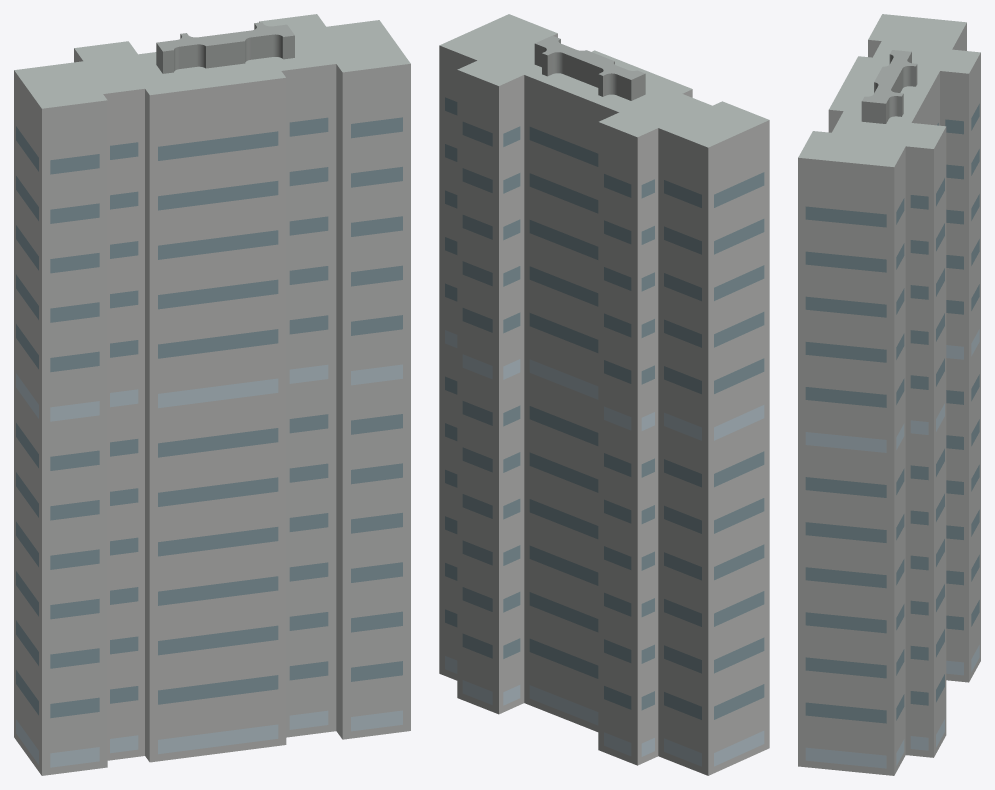
File: fallback-lake-palace-103.glb
3 views of the same model, side by side, from view 1: azimuth 30°, elevation 25°; view 2: azimuth 150°, elevation 25°; view 3: azimuth 270°, elevation 25° (orthographic). The views are drawn at different scales.
Parts seen in each view (by area): view 1: fallback-lake-palace-103; view 2: fallback-lake-palace-103; view 3: fallback-lake-palace-103.
Part boxes in pixels (x1,y1,x2,y2): fallback-lake-palace-103: (14, 14, 410, 775); fallback-lake-palace-103: (439, 14, 769, 775); fallback-lake-palace-103: (798, 14, 980, 775).
Bounding box in the file's own units: 38.65 × 74 × 19.48.
